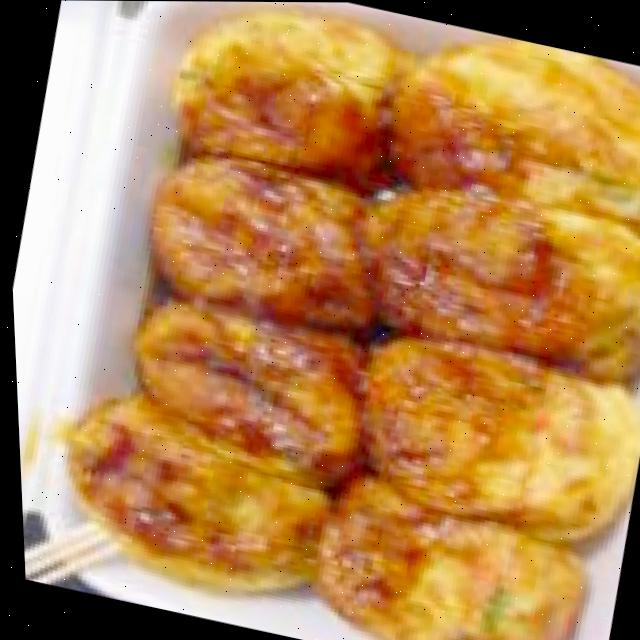炸货点心: (123, 1, 640, 640)
